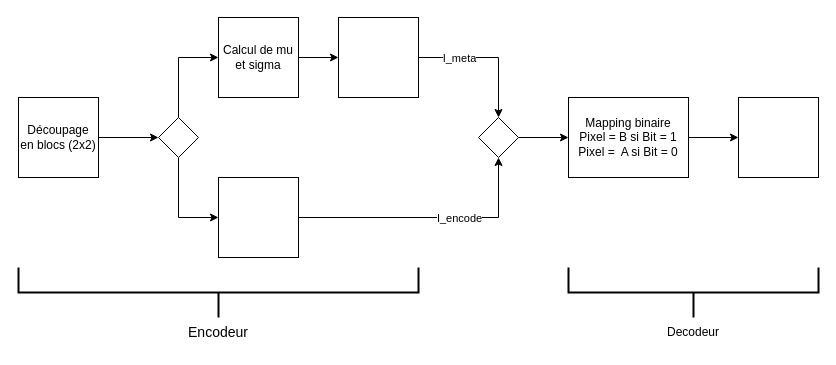
Some shapes in this 836 by 365 pixel diagram are drawn without their labels. The box of each missing label's shape, as (x1, y1, x2, y2) in pixels:
Assemblage de l'image: (738, 96, 818, 178)
Calcul de a et b: (338, 16, 418, 98)
Masque binaire: (218, 176, 298, 258)
